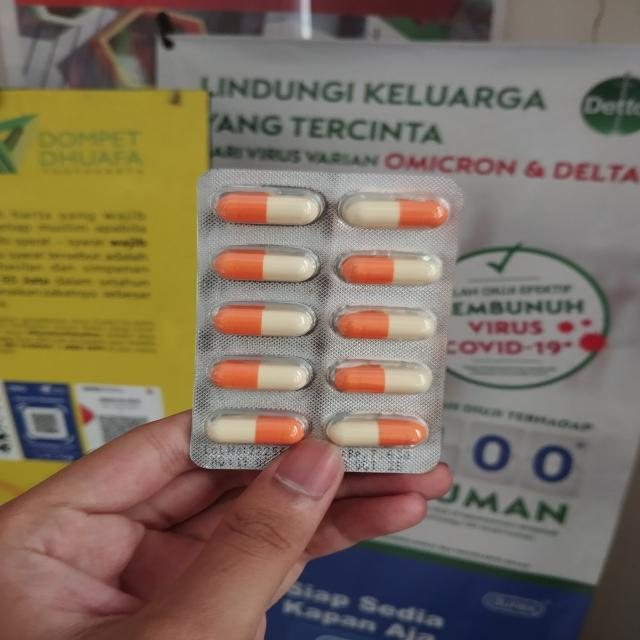B3: (188, 168, 465, 477)
